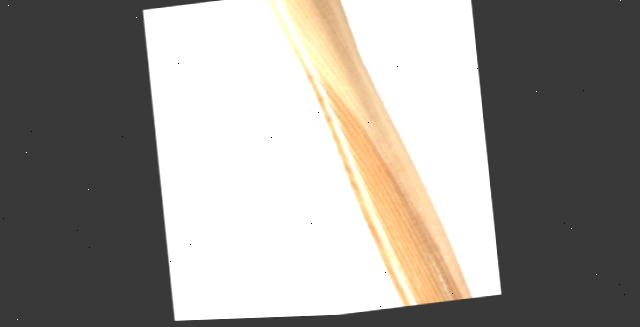hammer: (142, 0, 500, 323)
